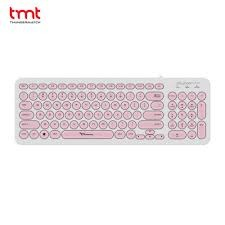keyboard: (8, 75, 219, 154)
